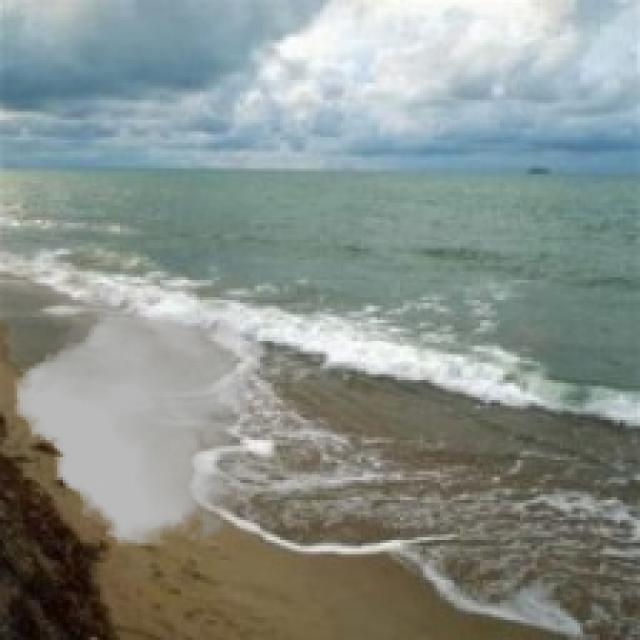smoke: (14, 280, 249, 551)
